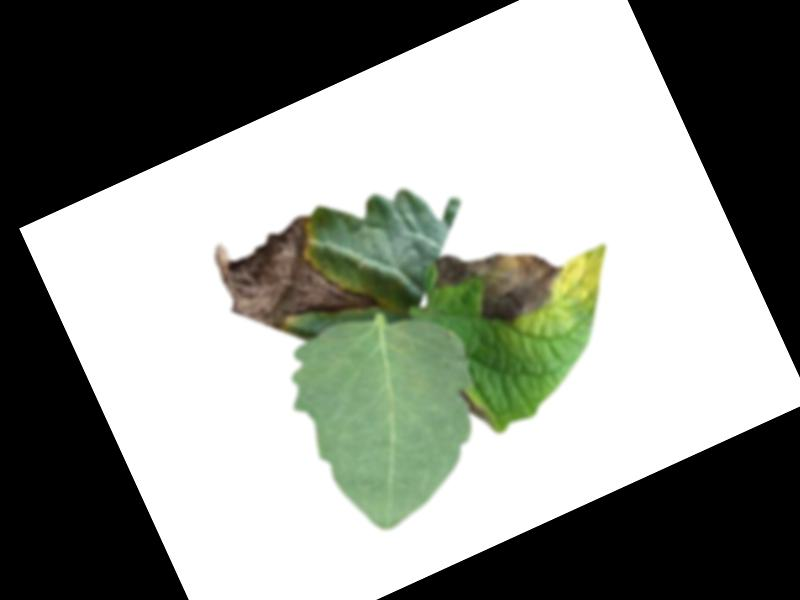Early_blight: (203, 190, 383, 360), (424, 210, 576, 347), (460, 384, 494, 431)
healthy: (268, 280, 518, 545)
